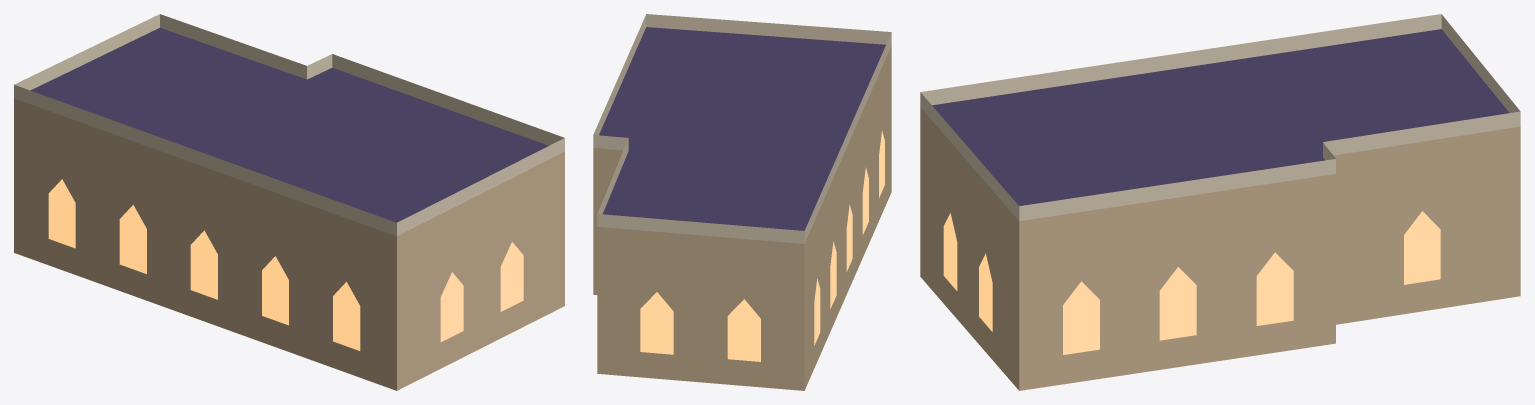
Rendered from b-003-benson-house.glb.
The picture shows the model from 3 angles, left to right: view 1: azimuth 30°, elevation 25°; view 2: azimuth 150°, elevation 25°; view 3: azimuth 270°, elevation 25°; orthographic projection. The views are drawn at different scales.
Parts seen in each view (by area): view 1: campus/b-003-benson-house-0; view 2: campus/b-003-benson-house-0; view 3: campus/b-003-benson-house-0.
Part boxes in pixels (bbox=[...]): campus/b-003-benson-house-0: bbox=[14, 14, 564, 390]; campus/b-003-benson-house-0: bbox=[593, 14, 891, 390]; campus/b-003-benson-house-0: bbox=[920, 14, 1520, 390].
Size of the model in its own units: 15.06 by 6.75 by 19.87.
